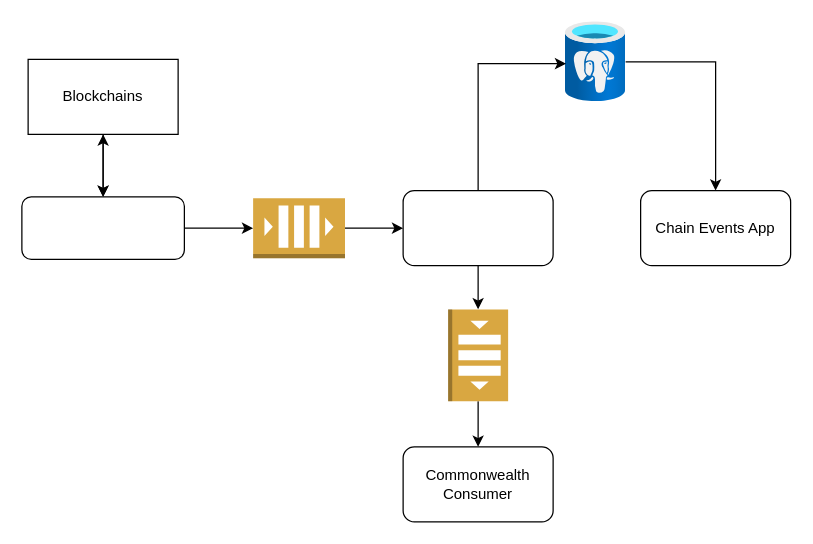
This 813x544 diagram has some shape labels left out. The shapes that lost their labels are listed below. From the top down, each one's centre as x and y in pixels, then its label:
At [102,227]: "Chain Subscriber".
At [477,227]: "Chain Events Consumer".
